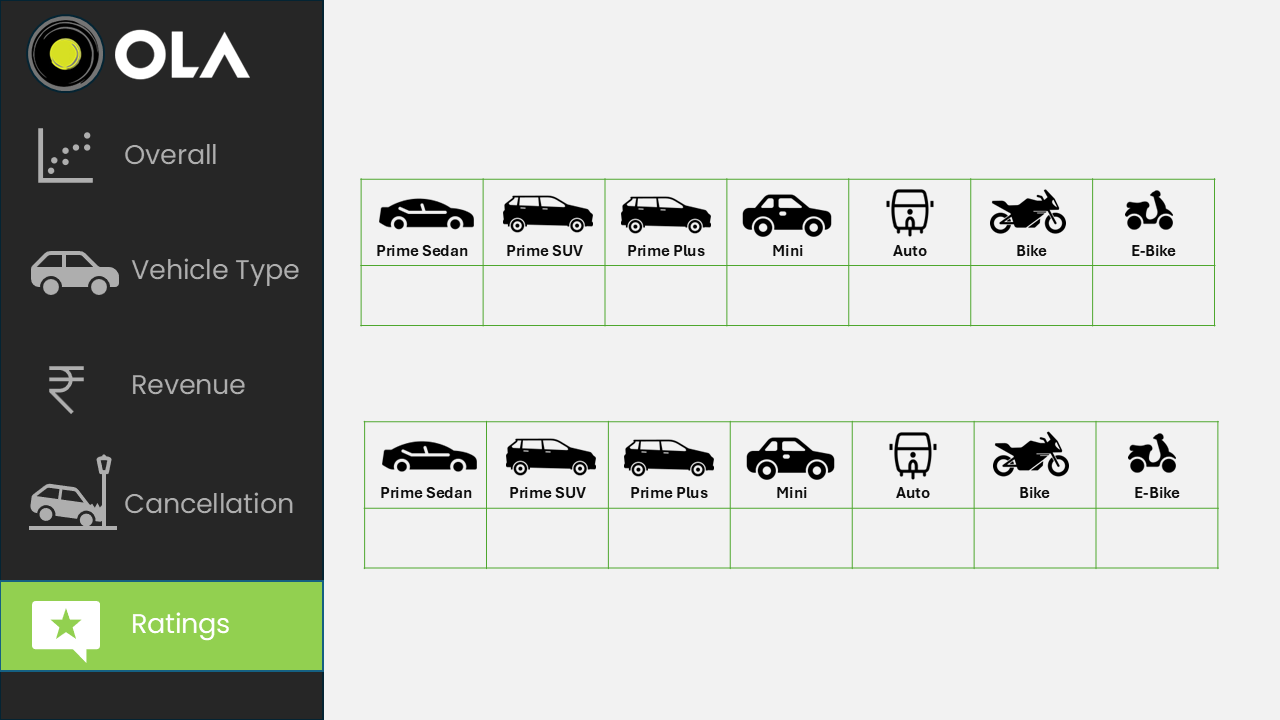

Layout of this report page (visuals, bound fields, positions):
{"tool":"powerbi","page":{"name":"Rating","canvas":[1280,720],"ordinal":4},"visuals":[{"type":"actionButton","box":[0,219.6,323.3,92.9],"z":0},{"type":"actionButton","box":[0,334.2,323.3,92.9],"z":1000},{"type":"actionButton","box":[0,441.6,323.3,112.2],"z":2000},{"type":"actionButton","box":[0,339,323.3,91.7],"z":3000},{"type":"actionButton","box":[0,113.4,323.3,90.5],"z":4000},{"type":"card","fields":{"Values":["Avg(July.Driver_Ratings)"]},"box":[357.8,266.7,126.9,45.5],"z":5000},{"type":"card","fields":{"Values":["Avg(July.Driver_Ratings)"]},"box":[484.7,266.7,126.9,45.5],"z":6000},{"type":"card","fields":{"Values":["Avg(July.Driver_Ratings)"]},"box":[598.5,266.7,126.9,45.5],"z":7000},{"type":"card","fields":{"Values":["Avg(July.Driver_Ratings)"]},"box":[725.4,266.7,126.9,45.5],"z":8000},{"type":"card","fields":{"Values":["Avg(July.Driver_Ratings)"]},"box":[852.2,266.7,126.9,45.5],"z":9000},{"type":"card","fields":{"Values":["Avg(July.Driver_Ratings)"]},"box":[966.1,266.7,126.9,45.5],"z":10000},{"type":"card","fields":{"Values":["Avg(July.Driver_Ratings)"]},"box":[1093,261.9,126.9,55.3],"z":11000},{"type":"textbox","box":[358.1,127.4,220.7,45.4],"z":12000},{"type":"textbox","box":[363.2,370.8,235.8,47.9],"z":13000},{"type":"card","fields":{"Values":["Avg(July.Customer_Rating)"]},"box":[363.2,508,127.3,45.6],"z":14000},{"type":"card","fields":{"Values":["Avg(July.Customer_Rating)"]},"box":[467.9,508.2,127.4,45.4],"z":15000},{"type":"card","fields":{"Values":["Avg(July.Customer_Rating)"]},"box":[611.6,508.2,127.4,45.4],"z":16000},{"type":"card","fields":{"Values":["Avg(July.Customer_Rating)"]},"box":[725.1,508.2,127.4,45.4],"z":17000},{"type":"card","fields":{"Values":["Avg(July.Customer_Rating)"]},"box":[852.5,508.2,127.4,45.4],"z":18000},{"type":"card","fields":{"Values":["Avg(July.Customer_Rating)"]},"box":[966,508.2,127.4,45.4],"z":19000},{"type":"card","fields":{"Values":["Avg(July.Customer_Rating)"]},"box":[1093.4,508.2,127.4,45.4],"z":20000},{"type":"slicer","title":"DATE","fields":{"Values":["July.Date"]},"box":[789.4,12.6,407.3,126.1],"z":21000}]}

Visuals, with their boxes on the page's 1280x720 design canvas (x1, y1, x2, y2). These are canvas units, not pixel positions in the 1280x720 screenshot, which may show the page scaled, cropped or inside an application window:
actionButton: 0:220:323:312
actionButton: 0:334:323:427
actionButton: 0:442:323:554
actionButton: 0:339:323:431
actionButton: 0:113:323:204
card - Avg(July.Driver_Ratings): 358:267:485:312
card - Avg(July.Driver_Ratings): 485:267:612:312
card - Avg(July.Driver_Ratings): 598:267:725:312
card - Avg(July.Driver_Ratings): 725:267:852:312
card - Avg(July.Driver_Ratings): 852:267:979:312
card - Avg(July.Driver_Ratings): 966:267:1093:312
card - Avg(July.Driver_Ratings): 1093:262:1220:317
textbox: 358:127:579:173
textbox: 363:371:599:419
card - Avg(July.Customer_Rating): 363:508:490:554
card - Avg(July.Customer_Rating): 468:508:595:554
card - Avg(July.Customer_Rating): 612:508:739:554
card - Avg(July.Customer_Rating): 725:508:852:554
card - Avg(July.Customer_Rating): 852:508:980:554
card - Avg(July.Customer_Rating): 966:508:1093:554
card - Avg(July.Customer_Rating): 1093:508:1221:554
"DATE" slicer: 789:13:1197:139
